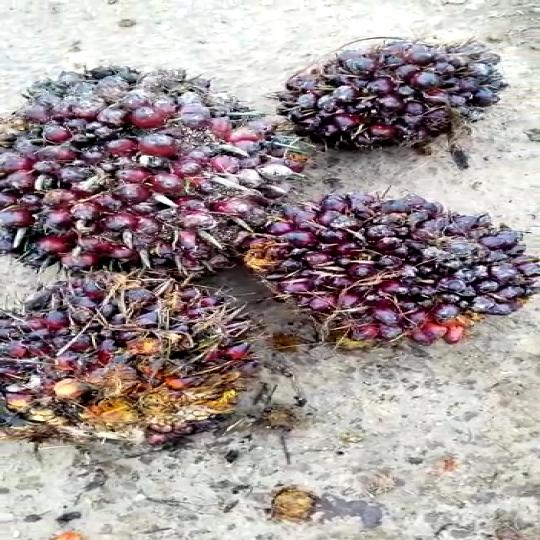kurang masak: (0, 53, 316, 280), (0, 271, 295, 456), (256, 195, 535, 343), (268, 24, 508, 152)
